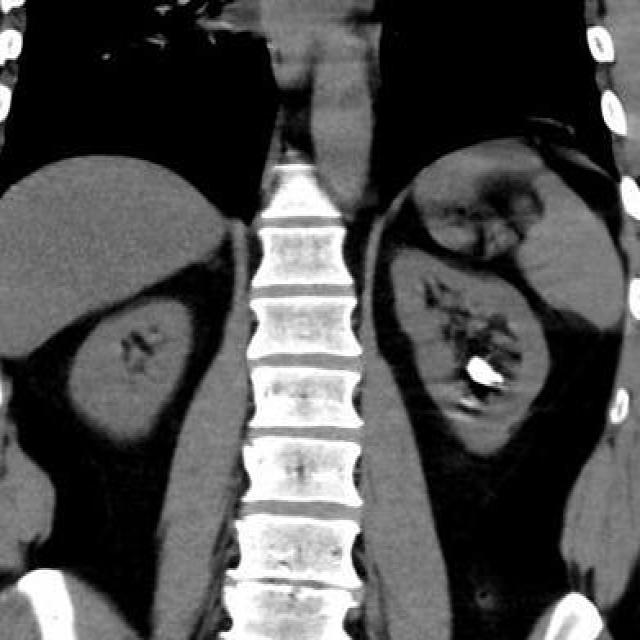Tas_Var: (466, 350, 510, 388), (442, 408, 476, 428), (458, 395, 483, 411)
